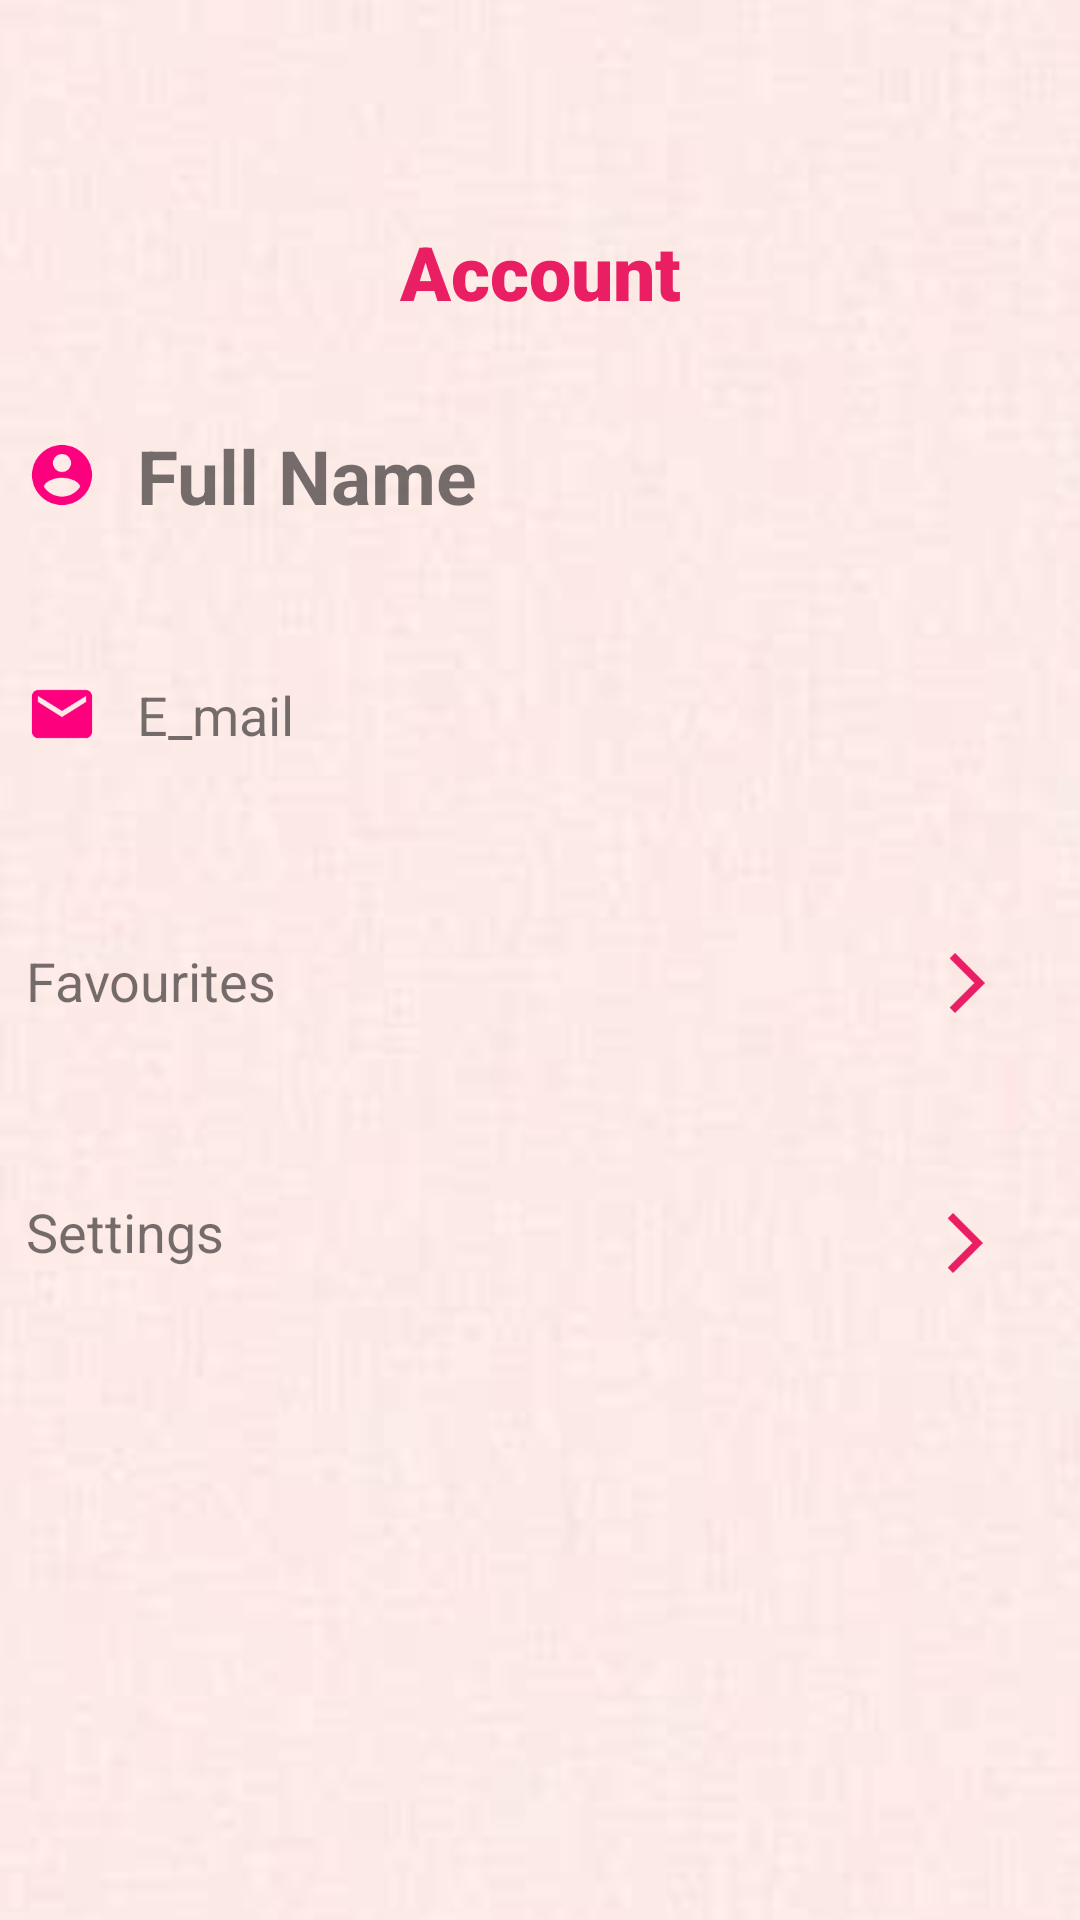

Screen size 1080x1920. Icon name, then its center in pixels as [x,y]:
arrow forward: [967,983], [965,1243]
